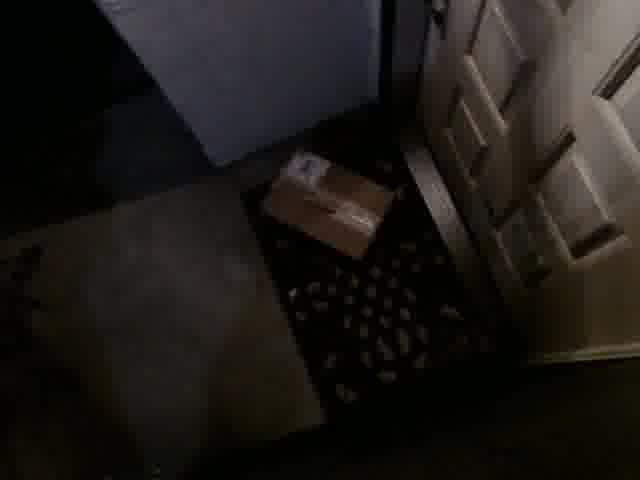box: (259, 144, 395, 262)
